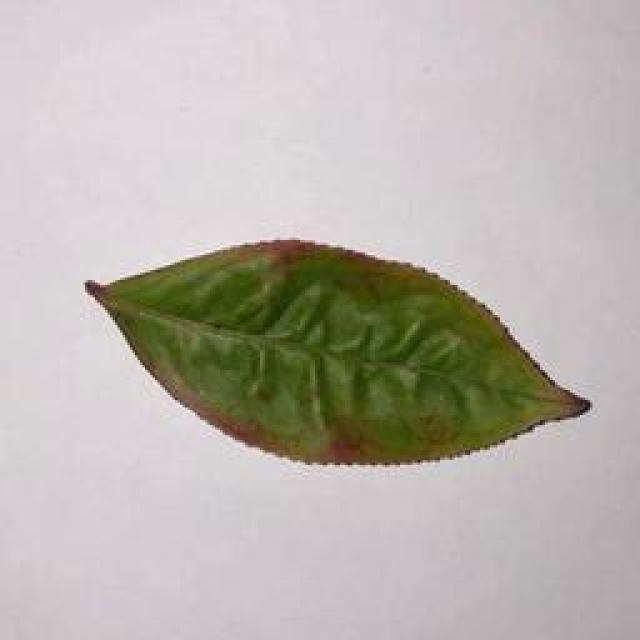Red Leaf Spot: (66, 230, 609, 490)
